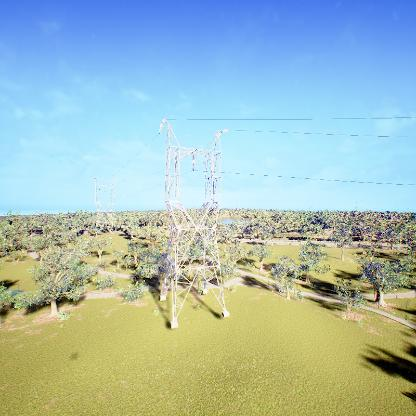tower: (151, 116, 234, 330)
